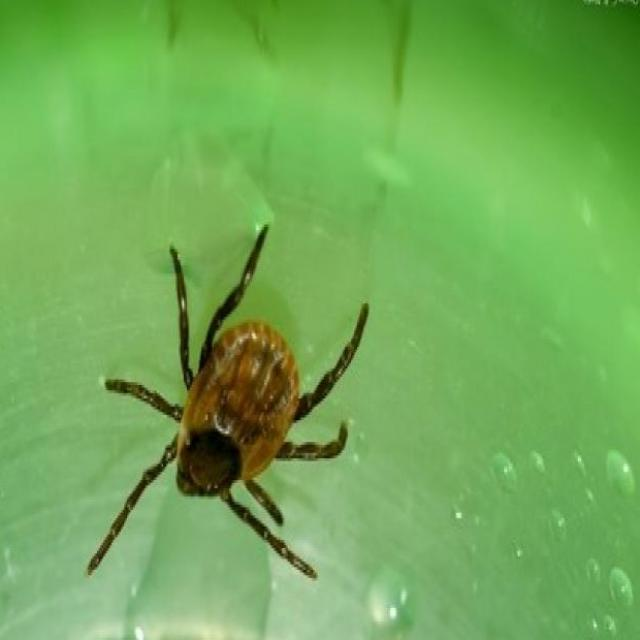Rhipicephalus Sanguineus-F: (88, 230, 368, 578)
